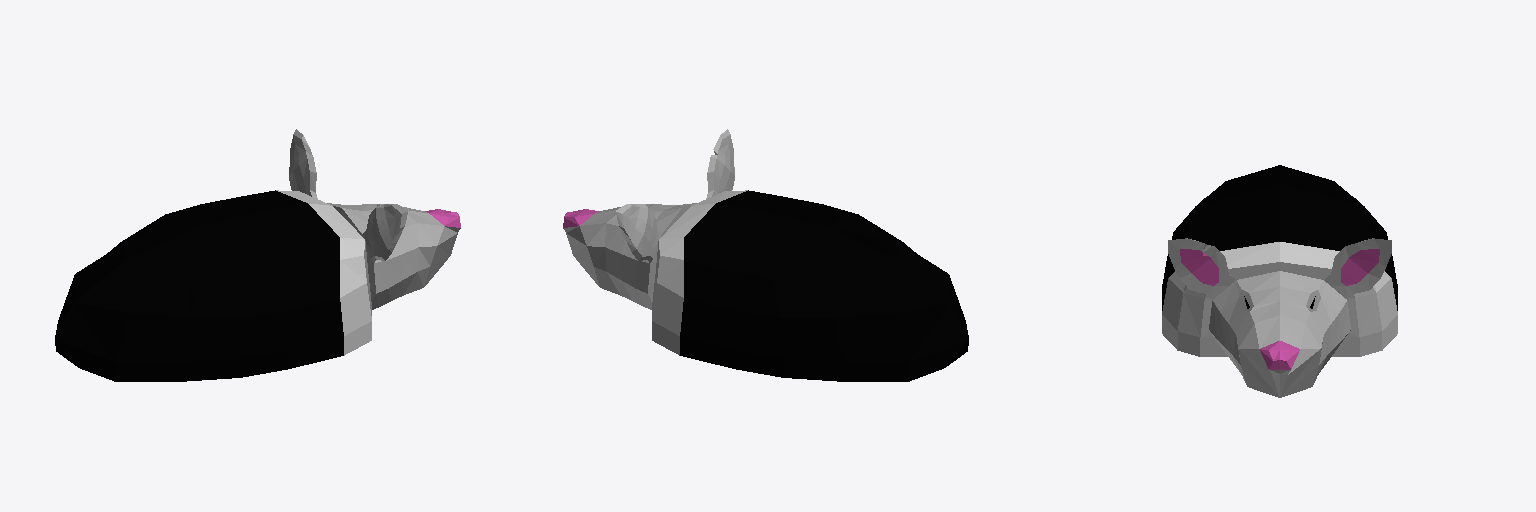
File: Rat_Body.obj
3 views of the same model, side by side, from view 1: azimuth 30°, elevation 25°; view 2: azimuth 150°, elevation 25°; view 3: azimuth 270°, elevation 25° (orthographic).
Visible parts, largest first — view 1: Rat_Body; view 2: Rat_Body; view 3: Rat_Body.
Part boxes in pixels (x1,y1,x2,y2): Rat_Body: (55,129,460,381); Rat_Body: (563,129,968,381); Rat_Body: (1162,165,1397,397).
Size of the model in its own units: 0.4571 by 0.1382 by 0.2323.